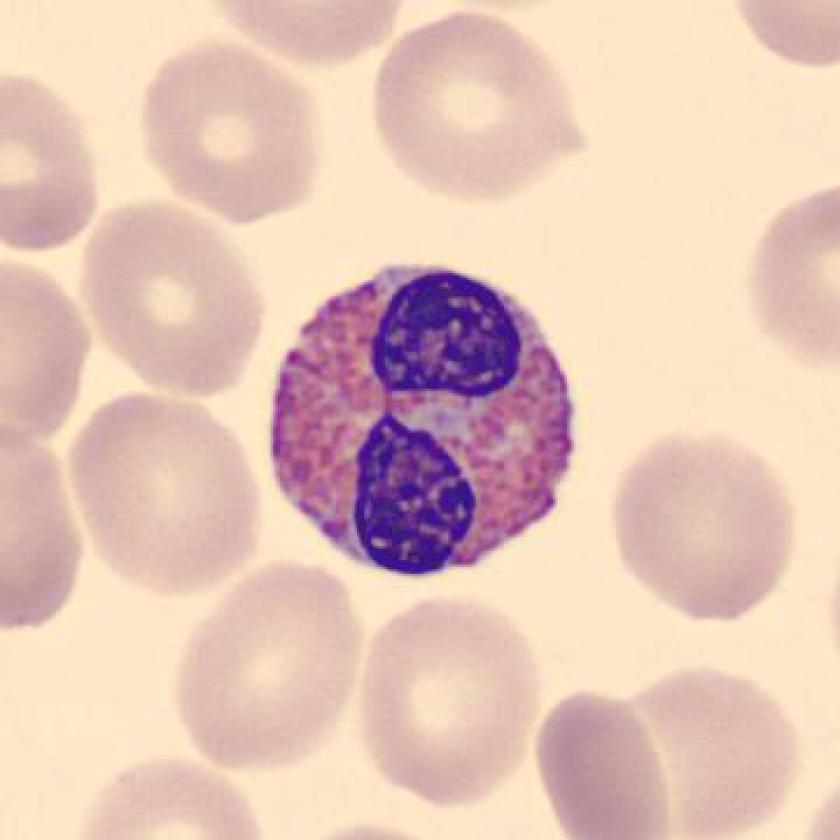eosinophil: (260, 258, 587, 589)
